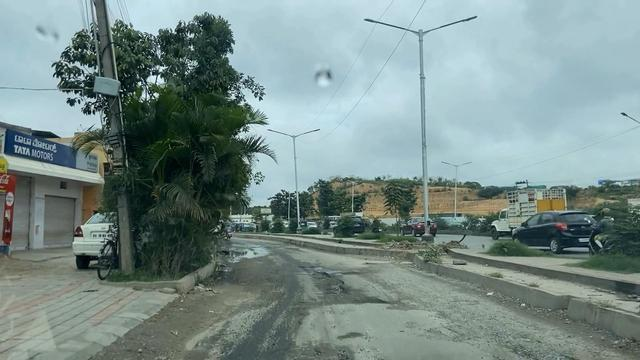RoadDamages: (302, 261, 398, 315), (272, 326, 372, 360)
